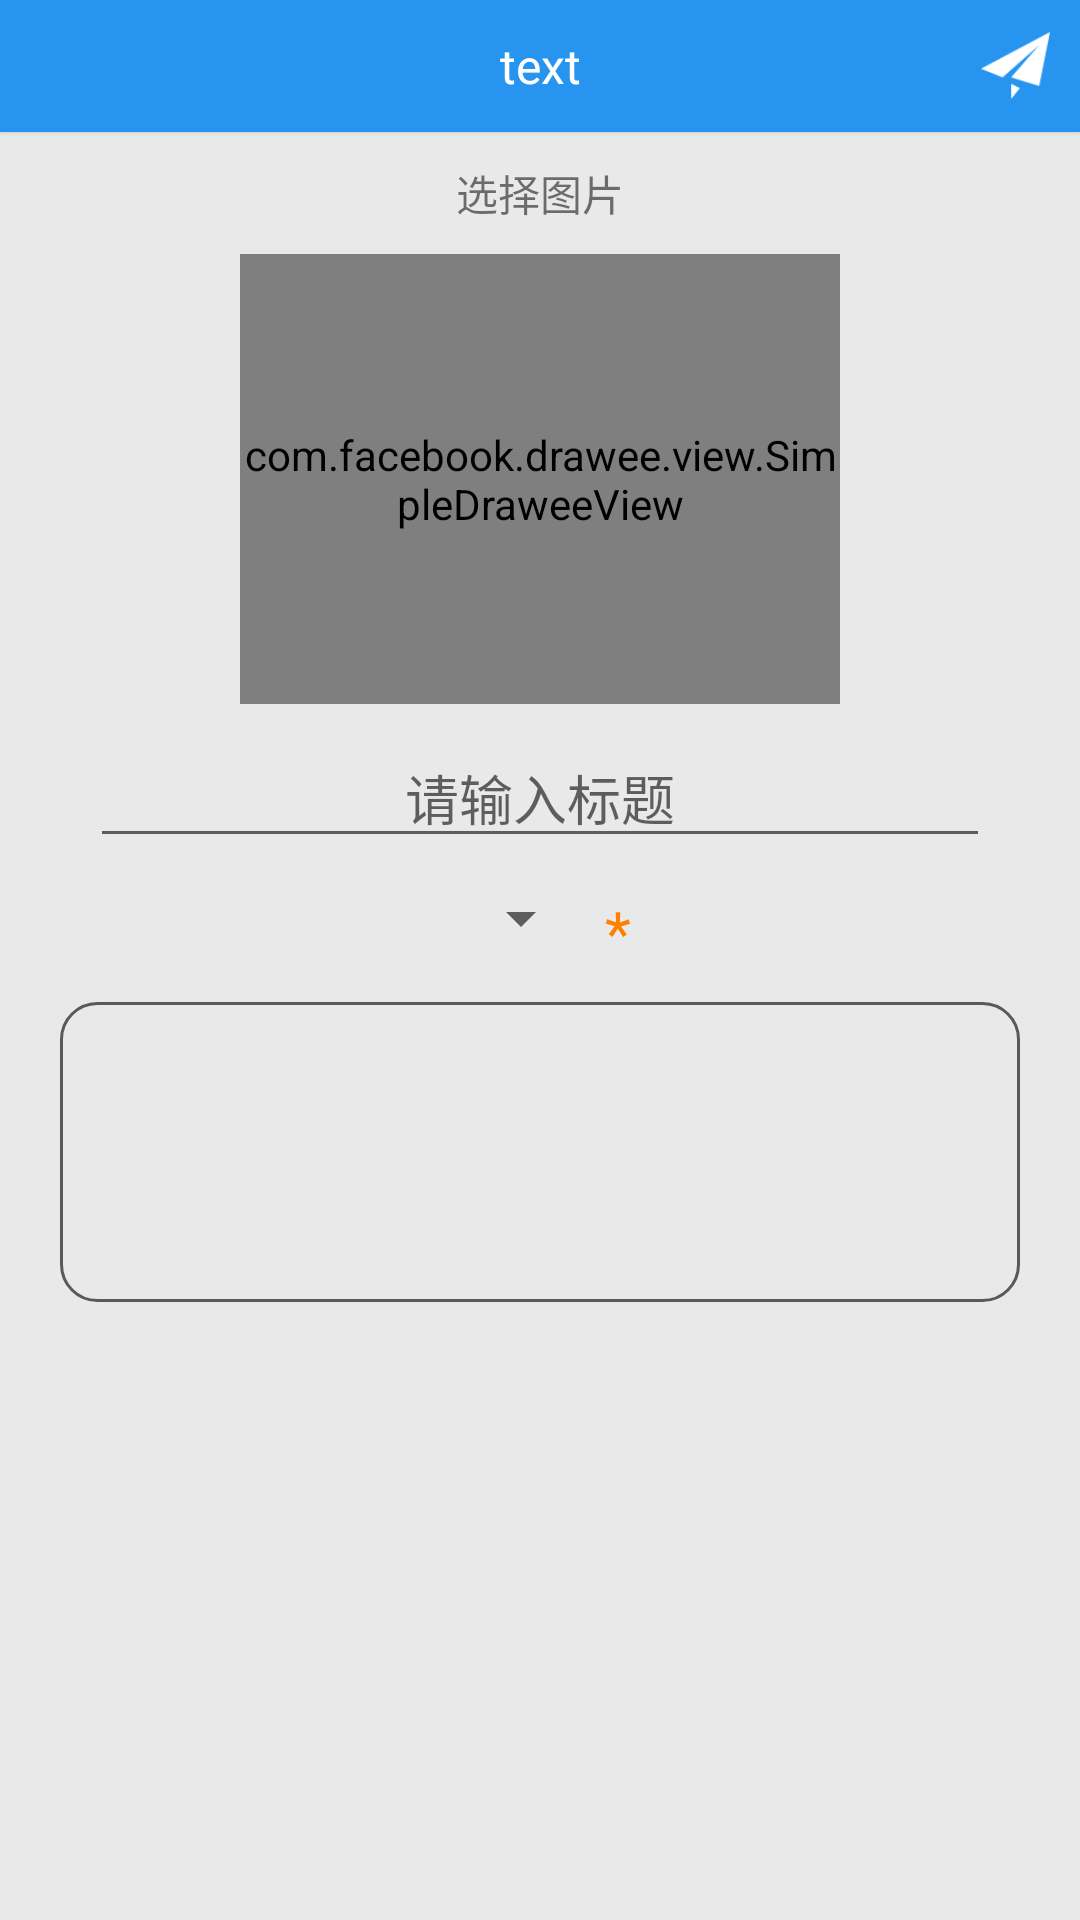

Screen size 1080px x 1920px. Icon name, then its box in pixels as (x1, y1, x2, y2):
pulish: (981, 32, 1050, 99)
